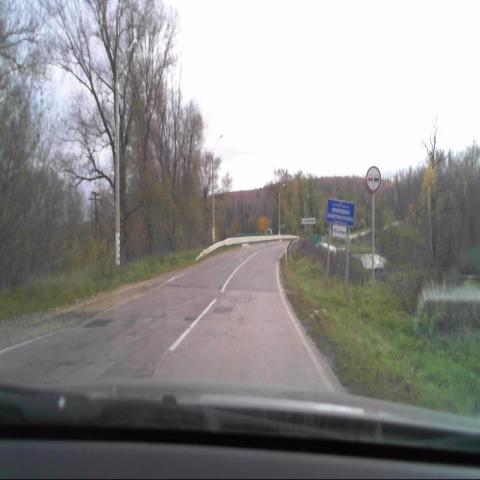3_20: (366, 165, 380, 193)
